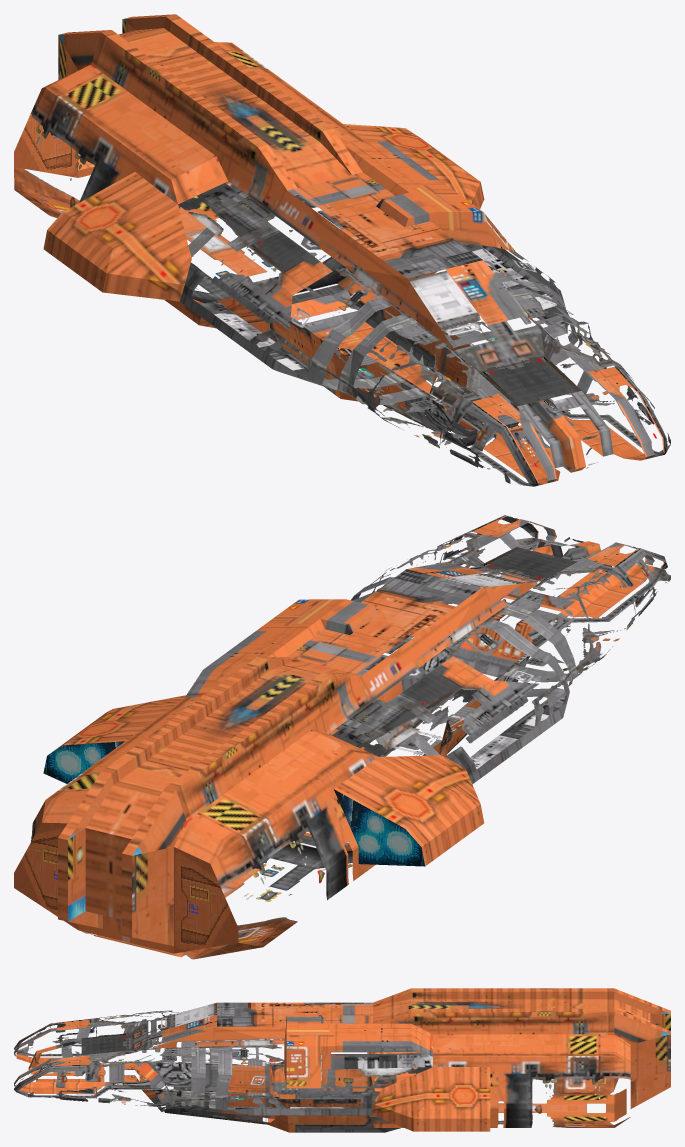
File: LOD0-UVFlip.obj
3 views of the same model, one above another, from view 1: azimuth 30°, elevation 25°; view 2: azimuth 150°, elevation 25°; view 3: azimuth 270°, elevation 25° (orthographic). The views are drawn at different scales.
Parts seen in each view (by area): view 1: FrontUV, LeftoverUV, Badge0_MAT, RearPlate; view 2: LeftoverUV, FrontUV, RearPlate, BurnerUV, Badge0_MAT; view 3: LeftoverUV, FrontUV, Badge0_MAT.
Boxes of the visible parts, x1,y1,x2,y2 form: FrontUV: (178, 141, 670, 486); LeftoverUV: (14, 14, 535, 346); Badge0_MAT: (479, 355, 581, 406); RearPlate: (14, 113, 78, 177); LeftoverUV: (31, 561, 537, 959); FrontUV: (185, 515, 670, 845); RearPlate: (14, 822, 238, 953); BurnerUV: (43, 741, 424, 866); Badge0_MAT: (479, 547, 577, 581); LeftoverUV: (153, 988, 670, 1131); FrontUV: (14, 1002, 432, 1132); Badge0_MAT: (81, 1033, 130, 1054).
Bounding box in the file's own units: 23.69 × 11.02 × 54.4.
